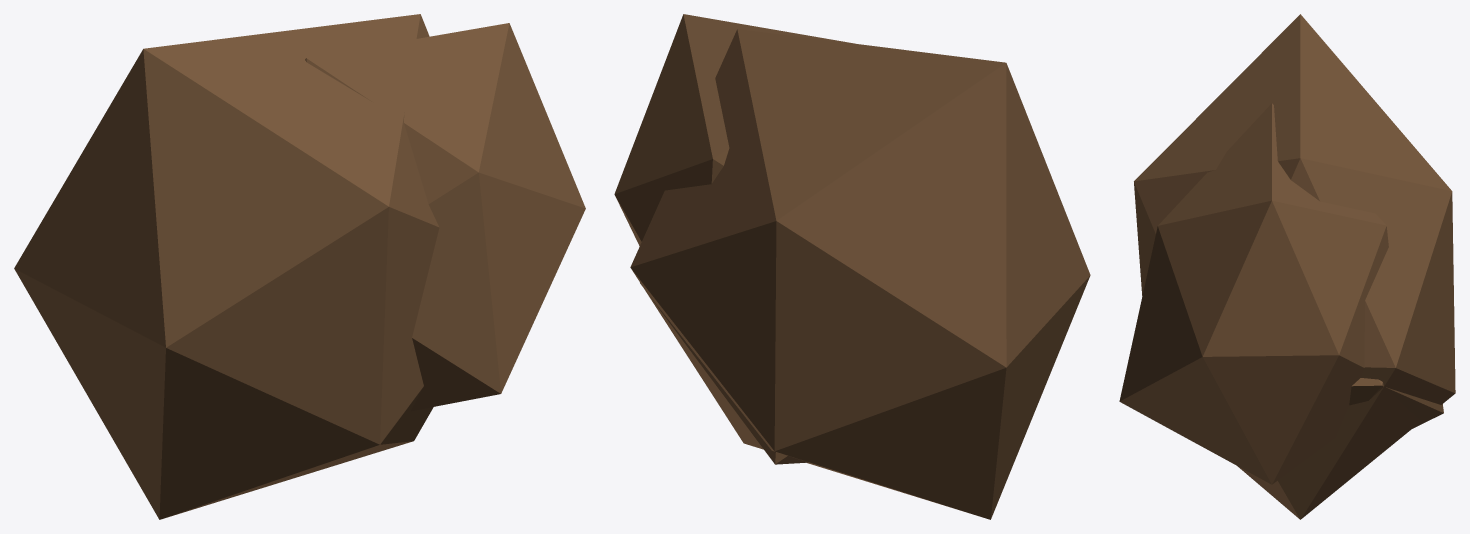
The model's file is frame_0.glb.
3 renders of one model, left to right at view 1: azimuth 30°, elevation 25°; view 2: azimuth 150°, elevation 25°; view 3: azimuth 270°, elevation 25°, orthographic. The views are drawn at different scales.
Visible parts, largest first — view 1: effect_diesel_smoke_frame_0; view 2: effect_diesel_smoke_frame_0; view 3: effect_diesel_smoke_frame_0.
Boxes of the visible parts, box(x1,y1,x2,y2) form: effect_diesel_smoke_frame_0: box(14, 14, 585, 519); effect_diesel_smoke_frame_0: box(614, 14, 1090, 519); effect_diesel_smoke_frame_0: box(1119, 14, 1455, 519).
Size of the model in its own units: 0.9159 by 0.9239 by 0.6912.
